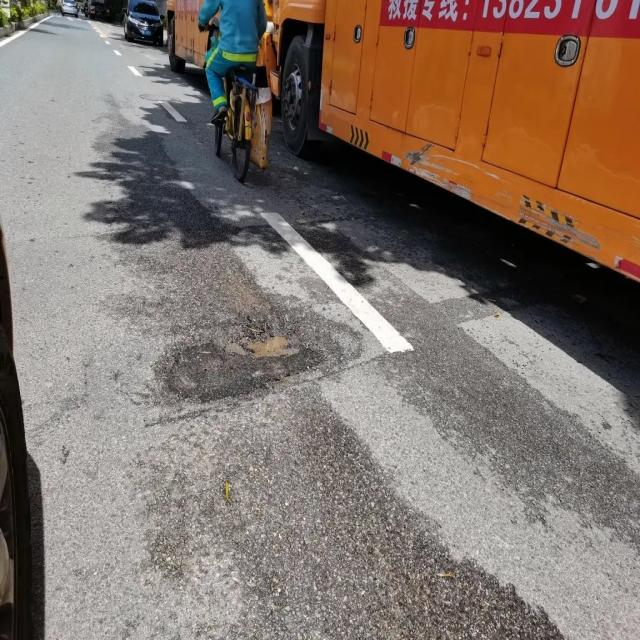Pothole: (211, 322, 317, 378)
